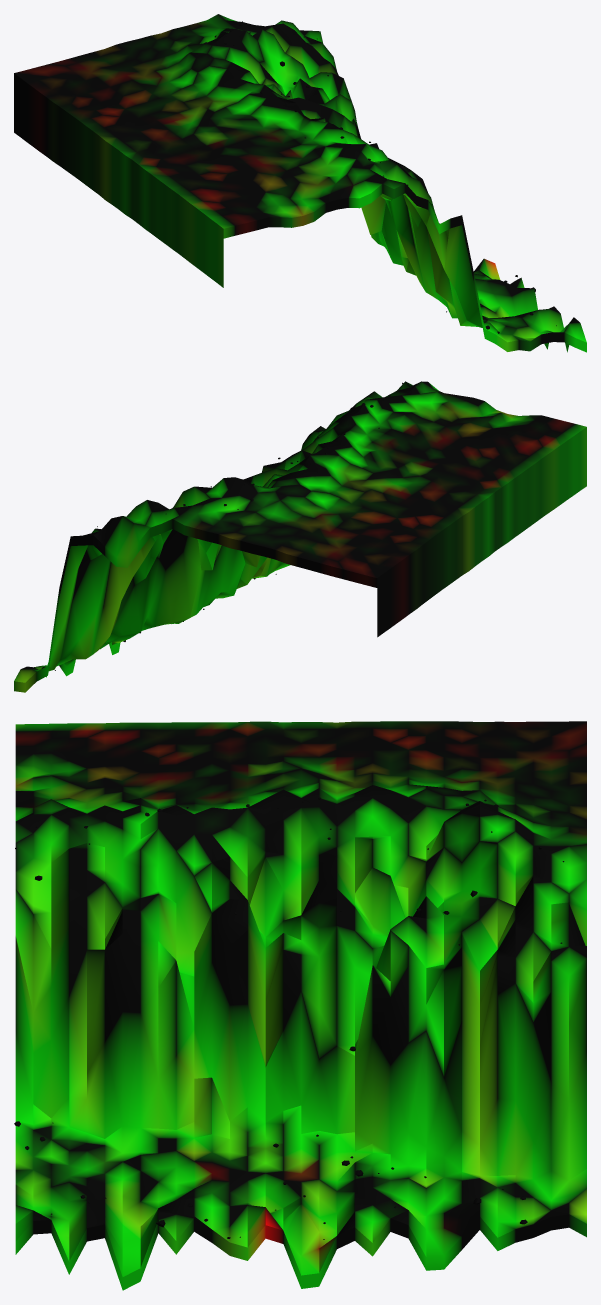
Rendered from Terrain_03_07.fbx.
3 renders of one model, top to bottom at view 1: azimuth 30°, elevation 25°; view 2: azimuth 150°, elevation 25°; view 3: azimuth 270°, elevation 25°, orthographic. The views are drawn at different scales.
Visible parts, largest first — view 1: Terrain_03_07_LOD0; view 2: Terrain_03_07_LOD0; view 3: Terrain_03_07_LOD0.
Part boxes in pixels (bbox=[...]): Terrain_03_07_LOD0: bbox=[14, 14, 586, 352]; Terrain_03_07_LOD0: bbox=[14, 381, 586, 692]; Terrain_03_07_LOD0: bbox=[14, 721, 586, 1290].
Size of what is drawn, in the model's own units: 387 by 271 by 385.
